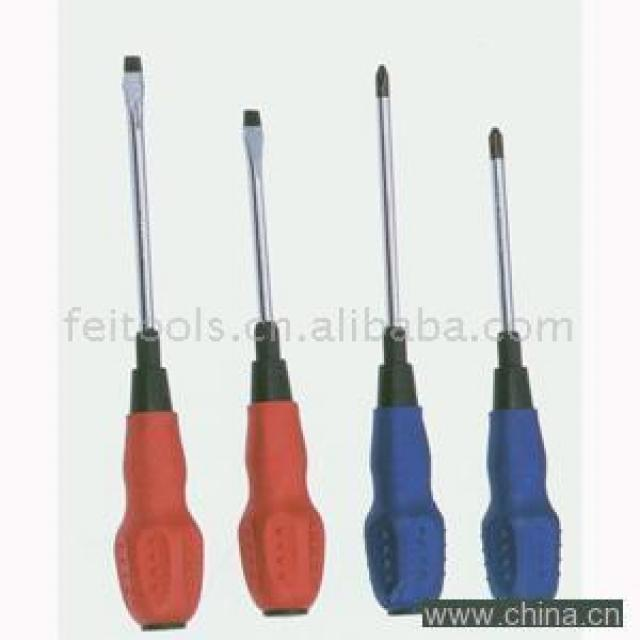screwdriver: (98, 36, 216, 630), (342, 48, 449, 618), (464, 94, 569, 618), (227, 81, 326, 628)
